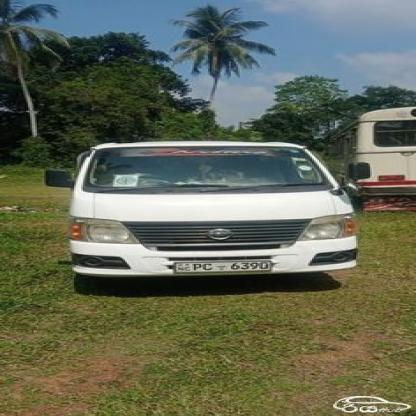number plate: (162, 258, 281, 274)
van front: (39, 138, 382, 293)
